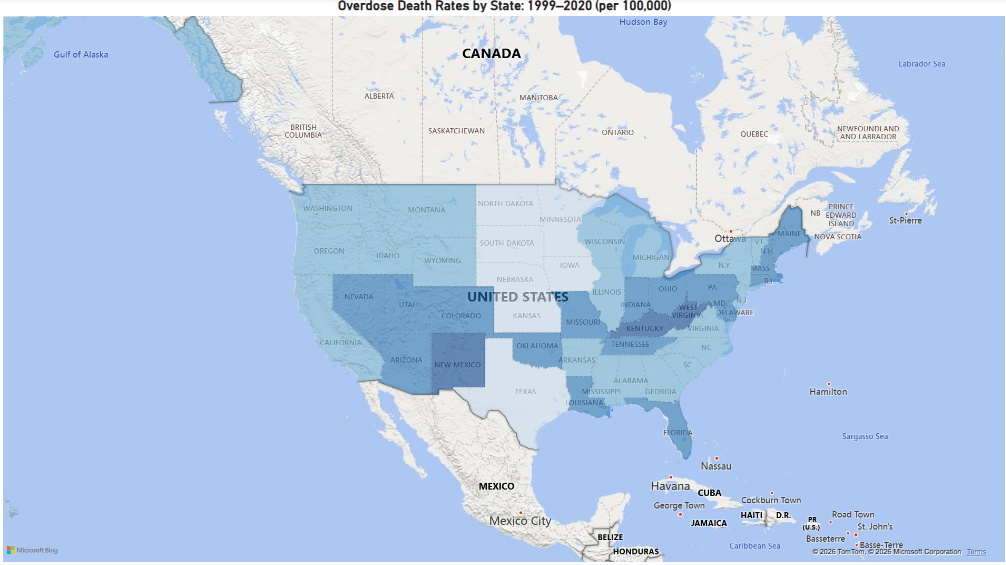

What the dashboard file says about the page in this screenshot:
{"tool":"powerbi","page":{"name":"State Map","canvas":[1280,720],"ordinal":2},"visuals":[{"type":"filledMap","title":"Overdose Death Rates by State: 1999–2020 (per 100,000)","fields":{"Category":["state_totals.state"]},"box":[0,0,1279.4,719.4],"z":0}]}

Visuals, with their boxes in screenshot pixels (x1, y1, x2, y2), scaled from the page's 1280x720 canvas onto the 1006x565 screenshot:
"Overdose Death Rates by State: 1999–2020 (per 100,000)" filledMap: left=0, top=0, right=1005, bottom=564
